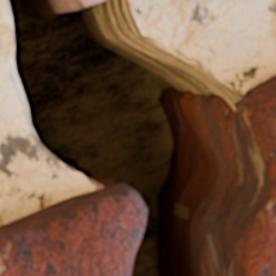brick: (72, 0, 103, 6)
broken_brick: (0, 186, 146, 275), (239, 74, 275, 175), (246, 181, 275, 275)
crack: (1, 0, 275, 275)
